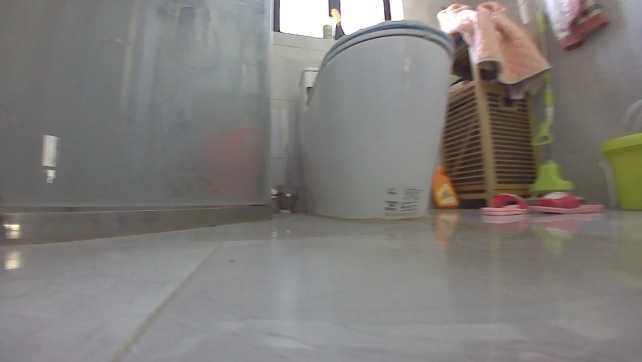slipper: (530, 188, 605, 215), (480, 186, 530, 217)
toilet: (298, 13, 460, 223)
